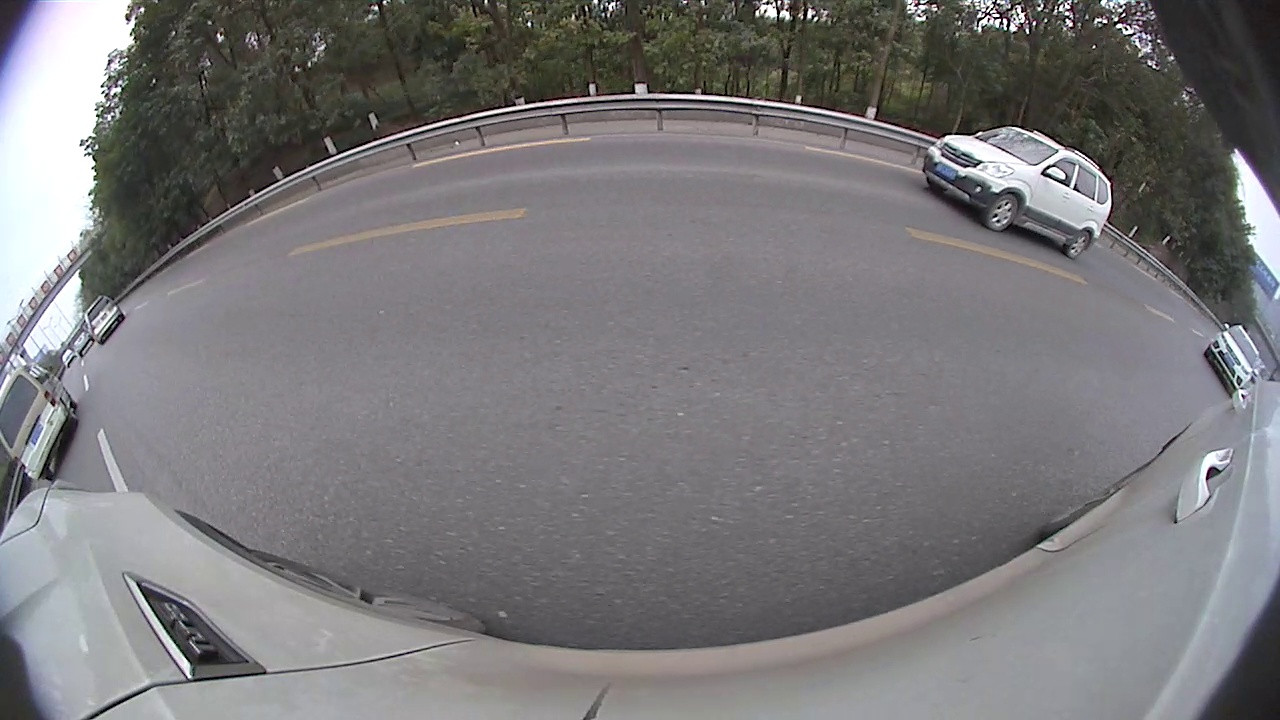car: (921, 122, 1114, 261), (1, 362, 80, 483), (1202, 322, 1265, 397), (82, 294, 127, 346), (70, 327, 96, 359)
front: (985, 194, 1019, 230)
rear: (1066, 231, 1090, 258)
